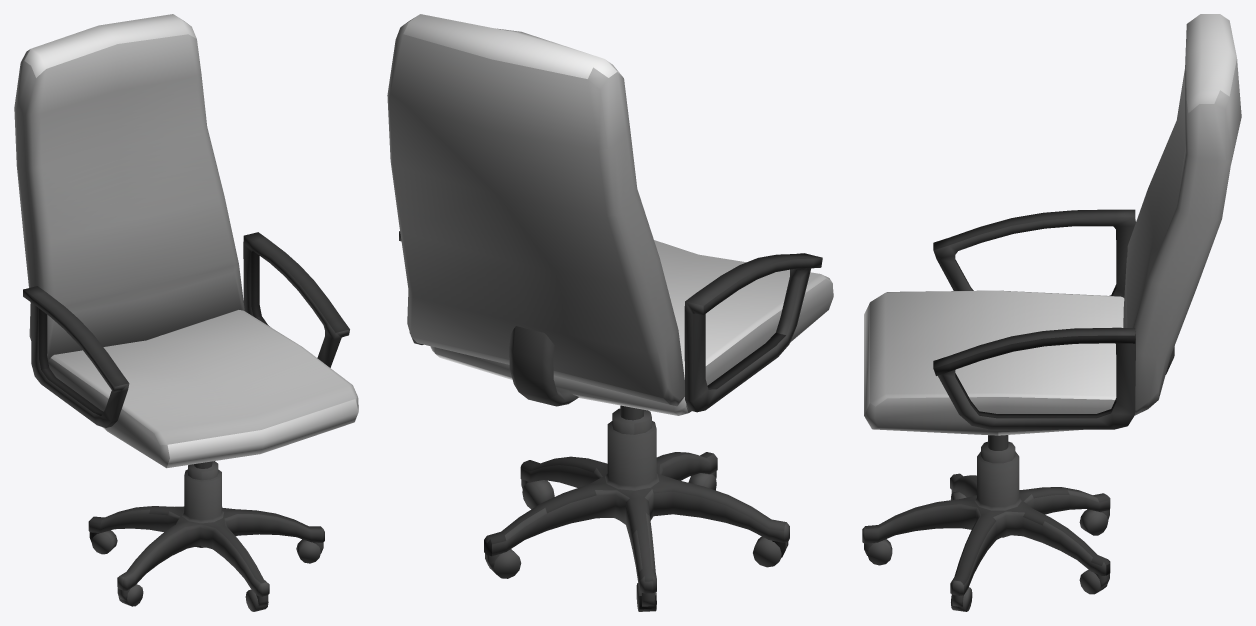
The model's file is ComChair.fbx.
The picture shows the model from 3 angles, left to right: view 1: azimuth 30°, elevation 25°; view 2: azimuth 150°, elevation 25°; view 3: azimuth 270°, elevation 25°; orthographic projection. The views are drawn at different scales.
Parts seen in each view (by area): view 1: ComChair; view 2: ComChair; view 3: ComChair.
Boxes of the visible parts, box(x1,y1,x2,y2) form: ComChair: box(14, 14, 358, 611); ComChair: box(387, 14, 833, 611); ComChair: box(862, 14, 1241, 611).
Size of the model in its own units: 97.06 by 185 by 124.
Materials: 1 (1 with a texture image).
